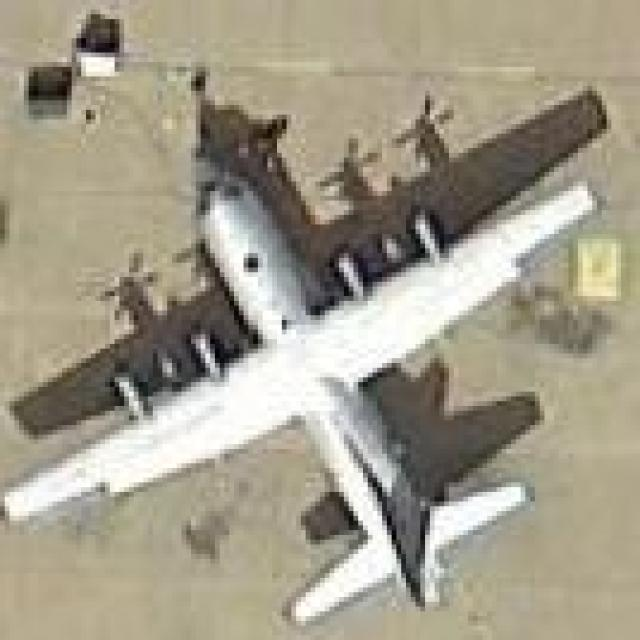C-130_TopDown: (0, 75, 613, 630)
